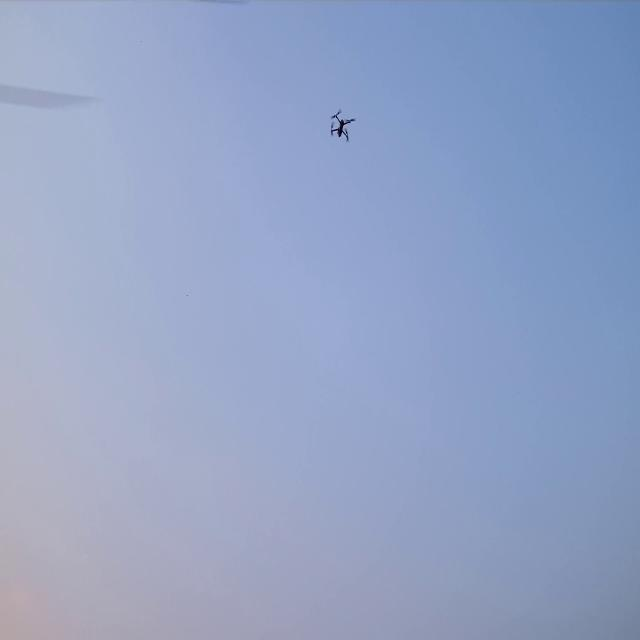UAV: (329, 106, 357, 144)
